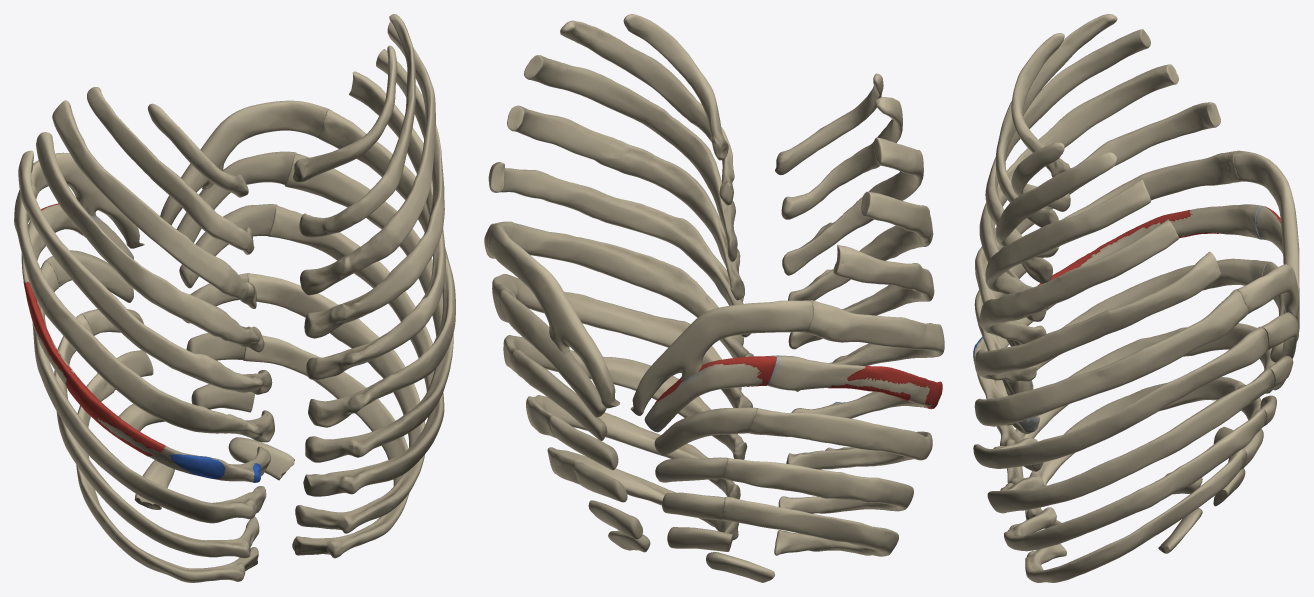
File: costae-3-12.glb
The picture shows the model from 3 angles, left to right: view 1: azimuth 30°, elevation 25°; view 2: azimuth 150°, elevation 25°; view 3: azimuth 270°, elevation 25°; orthographic projection. The views are drawn at different scales.
Visible parts, largest first — view 1: FJ3346, FJ3347, FJ3348, FJ3231, FJ3232, FJ3233, FJ3234, FJ3330, FJ3342, FJ3236, FJ3235, FJ3225 (+25 smaller); view 2: FJ3236, FJ3235, FJ3234, FJ3342, FJ3225, FJ3345, FJ3340, FJ3338, FJ3346, FJ3255, FJ3233, FJ3226 (+24 smaller); view 3: FJ3234, FJ3232, FJ3233, FJ3235, FJ3231, FJ3236, FJ3225, FJ3230, FJ3348, FJ3330, FJ3346, FJ3344 (+16 smaller).
Part boxes in pixels (x1,y1,x2,y2): FJ3346: [14, 185, 274, 442]; FJ3347: [18, 150, 272, 394]; FJ3348: [36, 132, 264, 352]; FJ3231: [247, 273, 425, 533]; FJ3232: [268, 205, 444, 496]; FJ3233: [284, 153, 453, 462]; FJ3234: [308, 109, 455, 427]; FJ3330: [52, 100, 256, 308]; FJ3342: [32, 261, 266, 523]; FJ3236: [304, 49, 444, 338]; FJ3235: [306, 71, 445, 380]; FJ3225: [300, 21, 435, 295]; FJ3236: [507, 105, 744, 300]; FJ3235: [488, 162, 750, 337]; FJ3234: [484, 221, 753, 357]; FJ3342: [748, 408, 932, 469]; FJ3225: [524, 55, 737, 261]; FJ3345: [630, 300, 813, 415]; FJ3340: [722, 458, 913, 513]; FJ3338: [722, 497, 898, 556]; FJ3346: [795, 300, 944, 391]; FJ3255: [488, 224, 620, 408]; FJ3233: [492, 274, 752, 407]; FJ3226: [560, 20, 734, 205]; FJ3234: [974, 289, 1248, 426]; FJ3232: [987, 368, 1274, 513]; FJ3233: [973, 326, 1268, 468]; FJ3235: [975, 251, 1220, 382]; FJ3231: [1004, 408, 1266, 551]; FJ3236: [979, 220, 1178, 344]; FJ3225: [985, 179, 1150, 308]; FJ3230: [1025, 449, 1246, 582]; FJ3348: [979, 64, 1178, 321]; FJ3330: [985, 29, 1150, 283]; FJ3346: [974, 150, 1240, 395]; FJ3344: [974, 204, 1263, 433].
Size of the model in its own units: 273 by 328 by 210.
